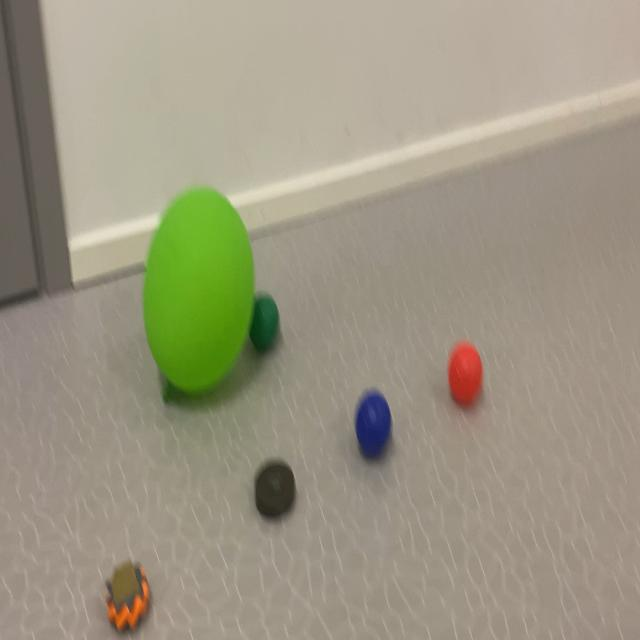7: (430, 332, 515, 449)
green ball: (345, 371, 411, 498)
red ball: (241, 255, 290, 368)
